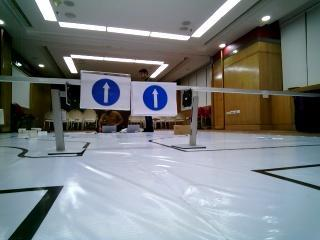straight: (80, 74, 130, 108), (133, 82, 177, 115)
